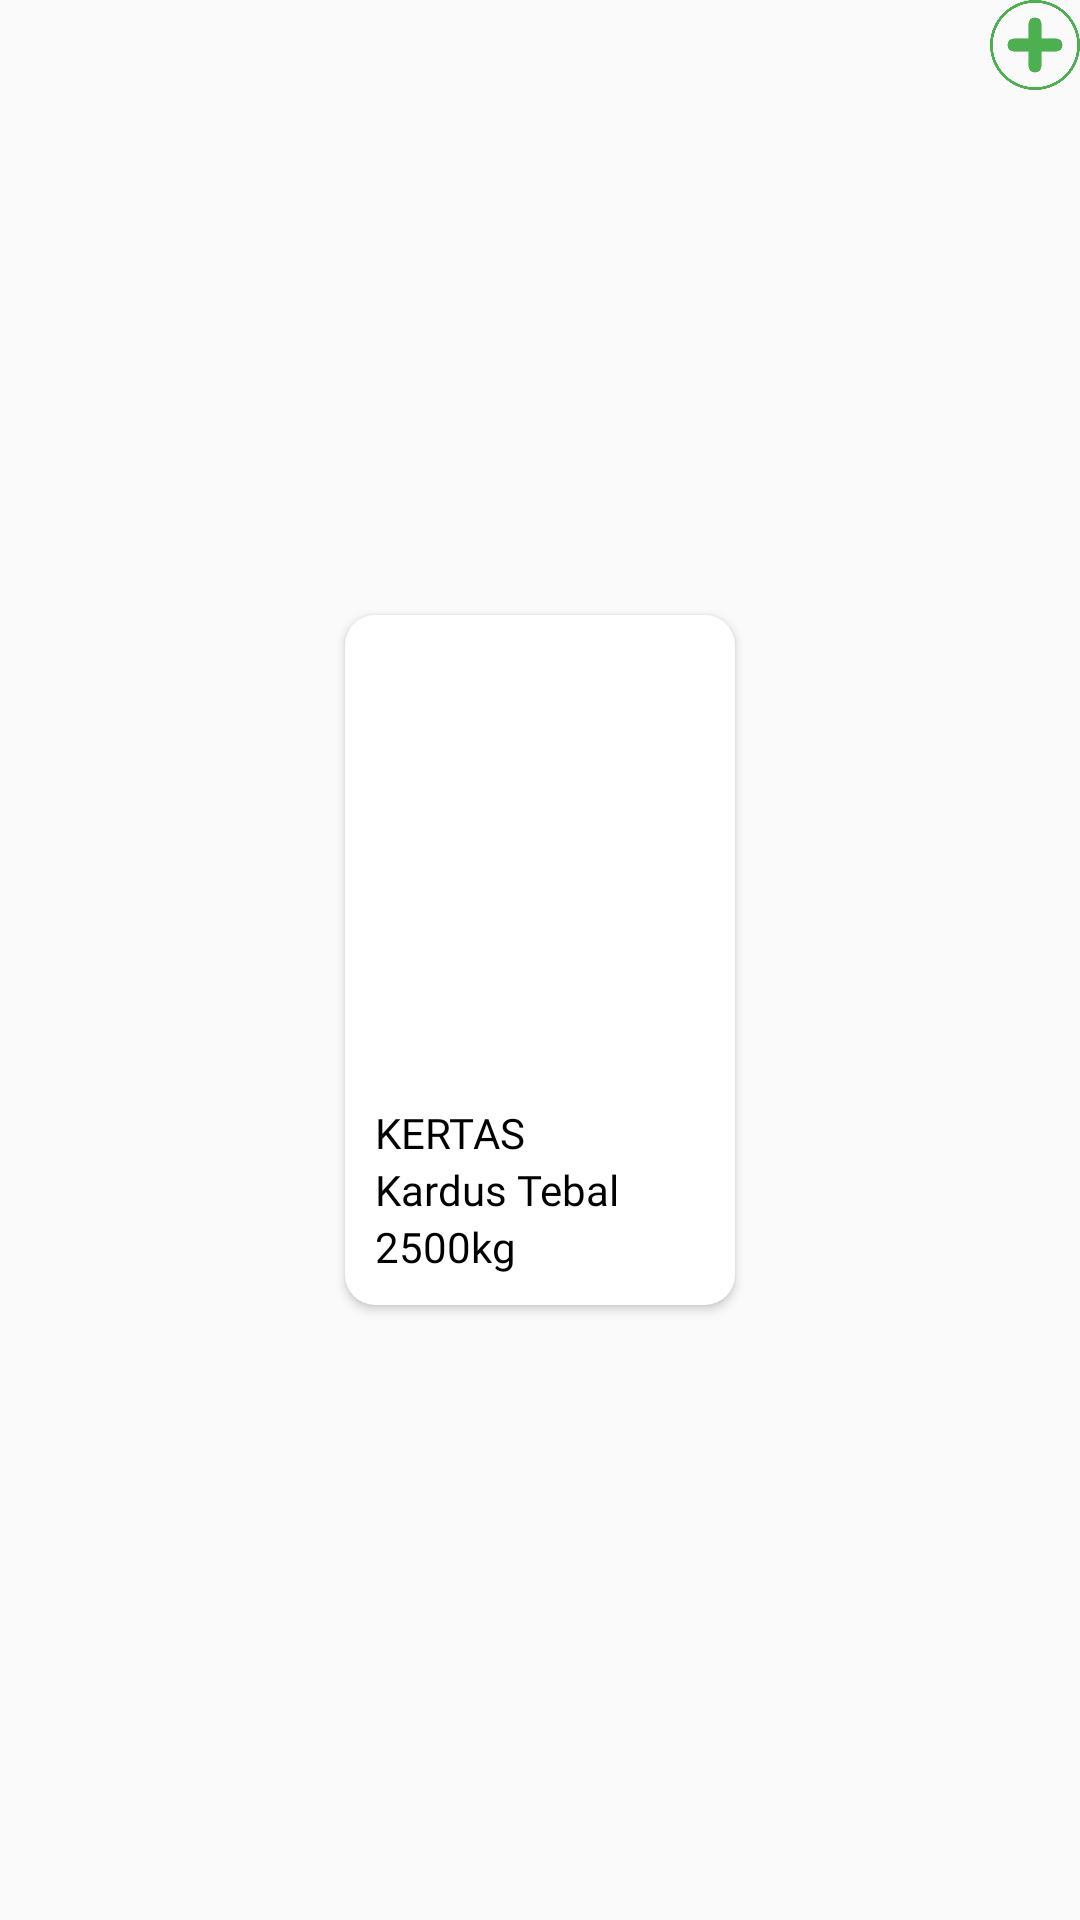

Screen size 1080w x 1920h. Icon name, then its box in pixels as rect(x1, y1, x2, y2):
plus: rect(990, 0, 1080, 90)
